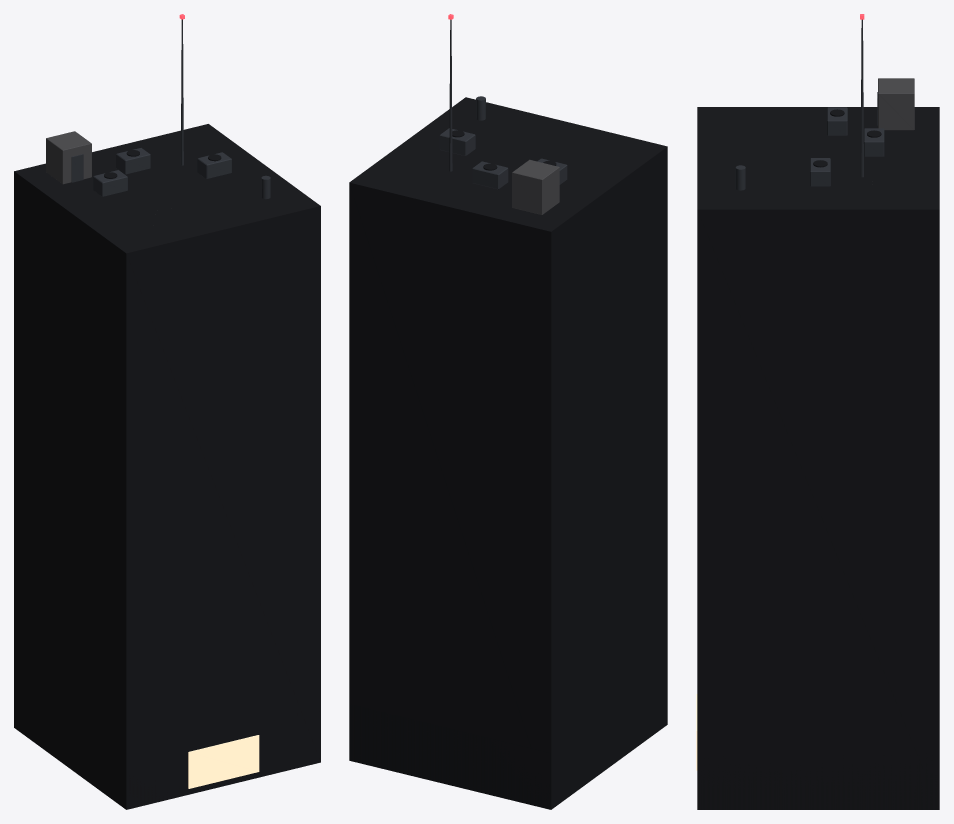
File: kit_office_tower.glb
The picture shows the model from 3 angles, left to right: view 1: azimuth 30°, elevation 25°; view 2: azimuth 150°, elevation 25°; view 3: azimuth 270°, elevation 25°; orthographic projection. The views are drawn at different scales.
Visible parts, largest first — view 1: ot_COL, ot_lobby, ot_lobby_glow, ot_access, ot_ac2, ot_ac1, ot_ac0; view 2: ot_COL, ot_lobby, ot_access, ot_ac2, ot_ac1; view 3: ot_COL, ot_lobby, ot_access, ot_ac1, ot_ac2, ot_ac0, ot_antenna.
Part boxes in pixels (x1=…): ot_COL: x1=14, y1=124, x2=320, y2=809; ot_lobby: x1=14, y1=674, x2=265, y2=808; ot_lobby_glow: x1=188, y1=735, x2=259, y2=788; ot_access: x1=46, y1=131, x2=91, y2=184; ot_ac2: x1=116, y1=148, x2=150, y2=174; ot_ac1: x1=197, y1=152, x2=231, y2=179; ot_ac0: x1=93, y1=170, x2=127, y2=196; ot_COL: x1=349, y1=97, x2=667, y2=809; ot_lobby: x1=349, y1=668, x2=667, y2=808; ot_access: x1=512, y1=159, x2=559, y2=214; ot_ac2: x1=472, y1=161, x2=508, y2=189; ot_ac1: x1=439, y1=128, x2=475, y2=156; ot_COL: x1=697, y1=107, x2=939, y2=809; ot_lobby: x1=698, y1=755, x2=938, y2=809; ot_access: x1=878, y1=78, x2=914, y2=130; ot_ac1: x1=810, y1=158, x2=830, y2=186; ot_ac2: x1=864, y1=128, x2=884, y2=156; ot_ac0: x1=827, y1=107, x2=847, y2=135; ot_antenna: x1=860, y1=19, x2=863, y2=177.
Size of the model in its own units: 16.6 by 57.65 by 16.67.
6 materials, 6 textured.
